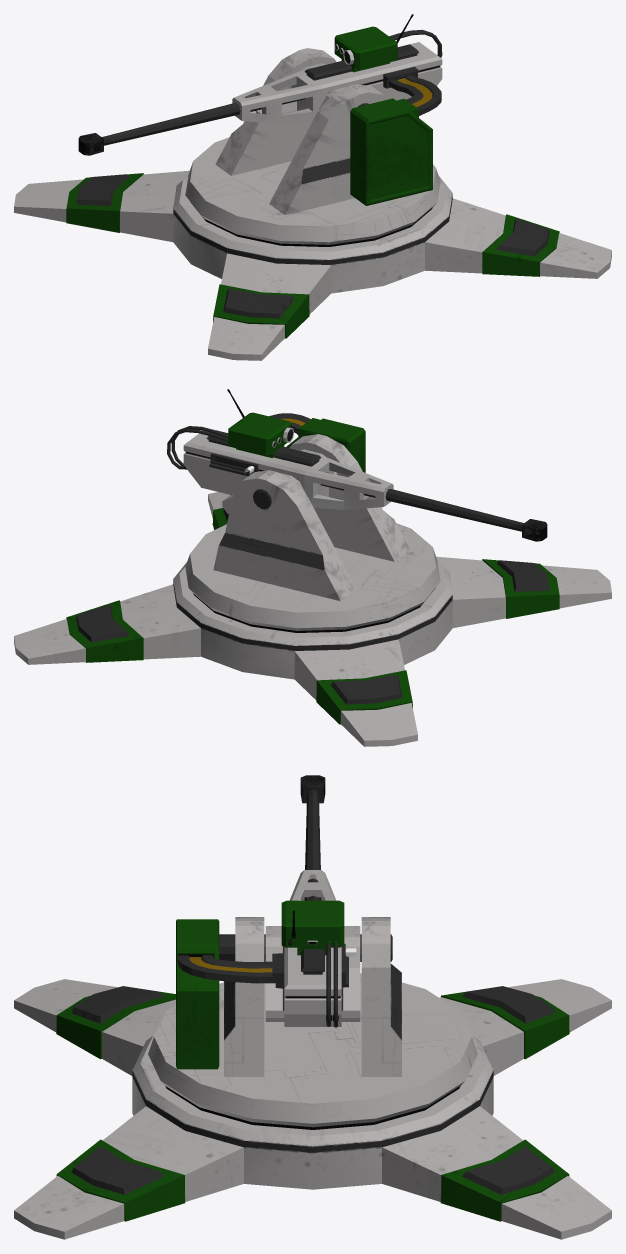
The model's file is turel11.fbx.
3 renders of one model, top to bottom at view 1: azimuth 30°, elevation 25°; view 2: azimuth 150°, elevation 25°; view 3: azimuth 270°, elevation 25°, orthographic. The views are drawn at different scales.
Visible parts, largest first — view 1: Circle.001, Circle.002, Cube.030, Cube.011, Cube.012, Cube.007, Cylinder.024, Cube.013, BézierCurve.005, Cylinder.033; view 2: Circle.001, Circle.002, Cube.030, Cube.013, Cube.012, Cube.007, Cylinder.024, Cube.011, Cube.008, Cylinder.033; view 3: Circle.001, Circle.002, Cube.030, Cube.011, Cube.012, Cube.007, Cube.015, BézierCurve.005, Cube.013, Cylinder.024, Cylinder.013.
Boxes of the visible parts, bbox=[...] form: Circle.001: bbox=[14, 170, 611, 360]; Circle.002: bbox=[185, 137, 440, 244]; Cube.030: bbox=[215, 48, 386, 215]; Cube.011: bbox=[350, 98, 432, 205]; Cube.012: bbox=[232, 42, 442, 123]; Cube.007: bbox=[334, 26, 397, 72]; Cylinder.024: bbox=[102, 86, 305, 145]; Cube.013: bbox=[232, 56, 386, 212]; BézierCurve.005: bbox=[388, 75, 441, 115]; Cylinder.033: bbox=[78, 133, 103, 155]; Circle.001: bbox=[14, 492, 611, 746]; Circle.002: bbox=[185, 523, 440, 630]; Cube.030: bbox=[217, 434, 410, 601]; Cube.013: bbox=[213, 442, 394, 599]; Cube.012: bbox=[183, 428, 393, 509]; Cube.007: bbox=[228, 412, 291, 457]; Cylinder.024: bbox=[320, 472, 523, 531]; Cube.011: bbox=[286, 418, 365, 472]; Cube.008: bbox=[209, 453, 258, 476]; Cylinder.033: bbox=[522, 519, 547, 541]; Circle.001: bbox=[14, 979, 611, 1239]; Circle.002: bbox=[148, 973, 477, 1127]; Cube.030: bbox=[224, 917, 401, 1076]; Cube.011: bbox=[176, 919, 219, 1069]; Cube.012: bbox=[284, 870, 341, 1026]; Cube.007: bbox=[281, 900, 344, 955]; Cube.015: bbox=[265, 926, 360, 1021]; BézierCurve.005: bbox=[177, 955, 275, 983]; Cube.013: bbox=[235, 925, 390, 1032]; Cylinder.024: bbox=[304, 790, 321, 900]; Cylinder.013: bbox=[219, 934, 392, 961].
Bounding box in the file's own units: 404 × 181 × 376.
